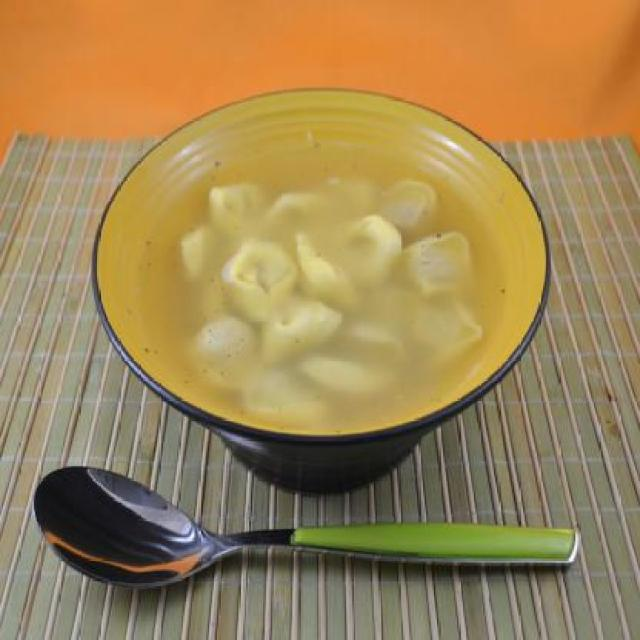Tortellini in broth: (163, 159, 494, 418)
